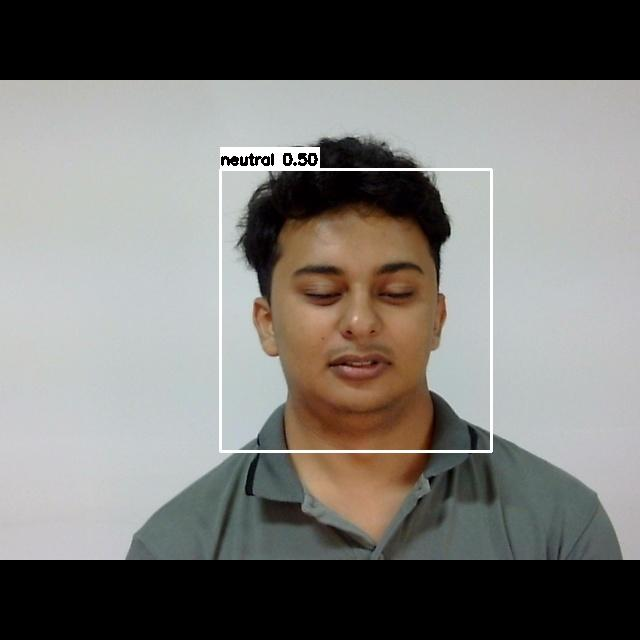Sad: (274, 235, 437, 406)
